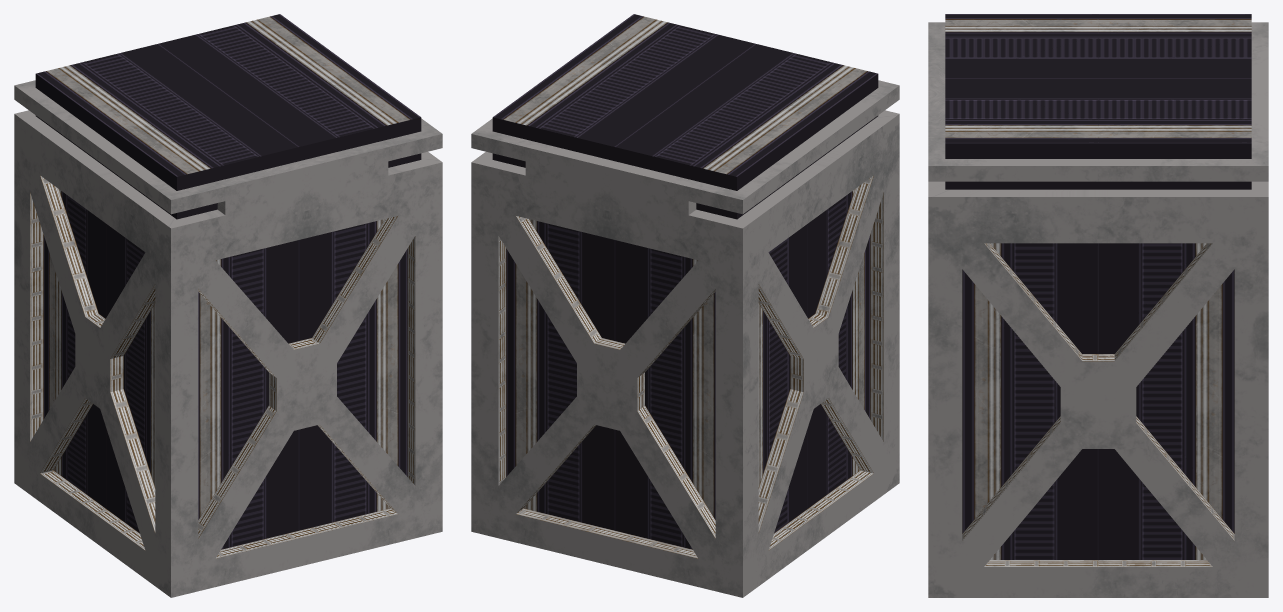
Rendered from Tower_Piece_01.fbx.
3 views of the same model, side by side, from view 1: azimuth 30°, elevation 25°; view 2: azimuth 150°, elevation 25°; view 3: azimuth 270°, elevation 25° (orthographic). The views are drawn at different scales.
Visible parts, largest first — view 1: Tower_Piece_01; view 2: Tower_Piece_01; view 3: Tower_Piece_01.
Part boxes in pixels (bbox=[...]): Tower_Piece_01: bbox=[14, 14, 442, 597]; Tower_Piece_01: bbox=[471, 14, 899, 597]; Tower_Piece_01: bbox=[928, 14, 1268, 597].
Size of the model in its own units: 2000 by 2900 by 2000.
